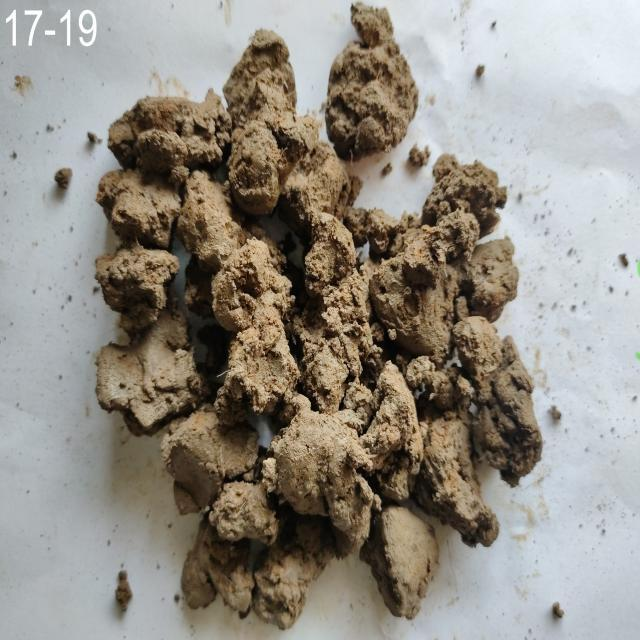soil: (180, 160, 426, 457)
